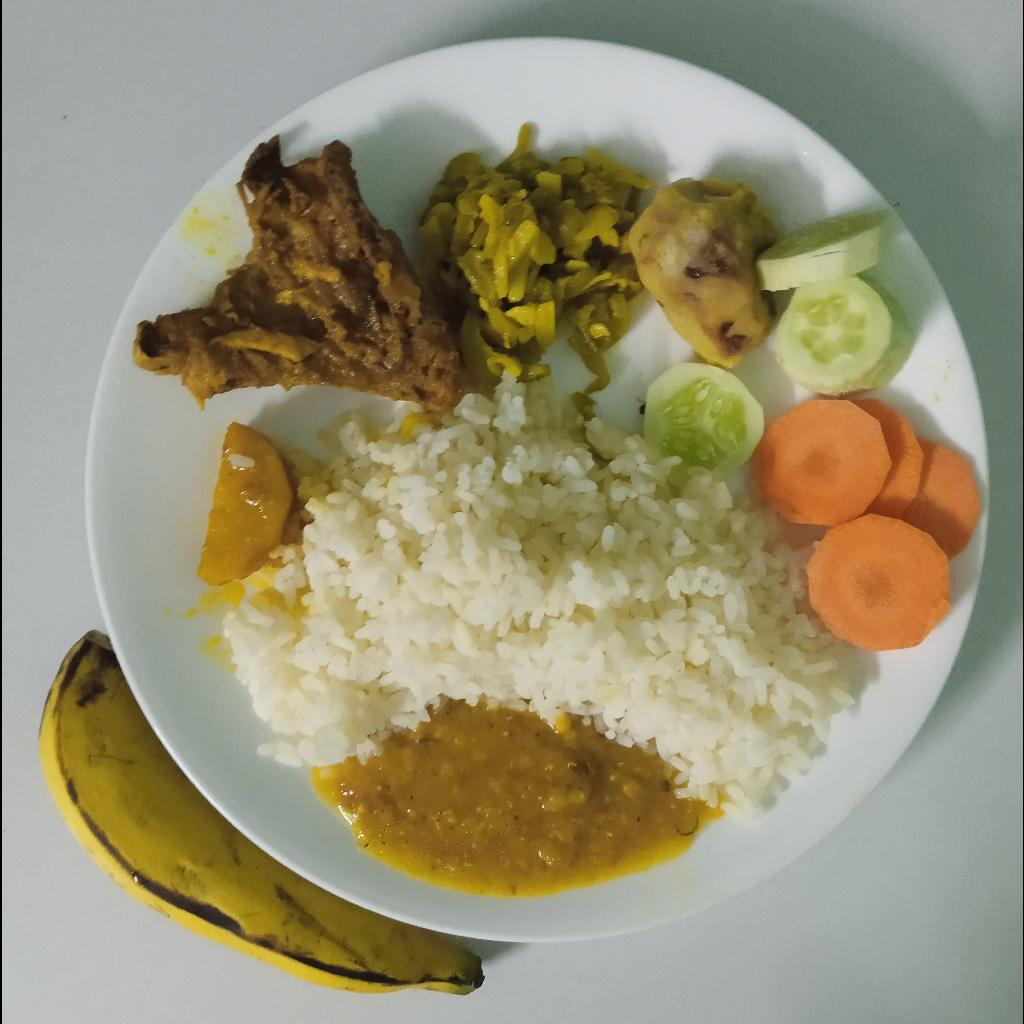banana: (37, 628, 485, 997)
carrot: (754, 399, 980, 652)
chicken: (126, 134, 463, 411)
cucumber: (759, 208, 915, 399), (644, 362, 764, 486)
daal: (314, 699, 732, 896)
potato: (196, 420, 294, 584)
potato-mashed: (630, 177, 779, 371)
rice: (218, 376, 847, 815)
vegetable: (421, 123, 658, 392)
